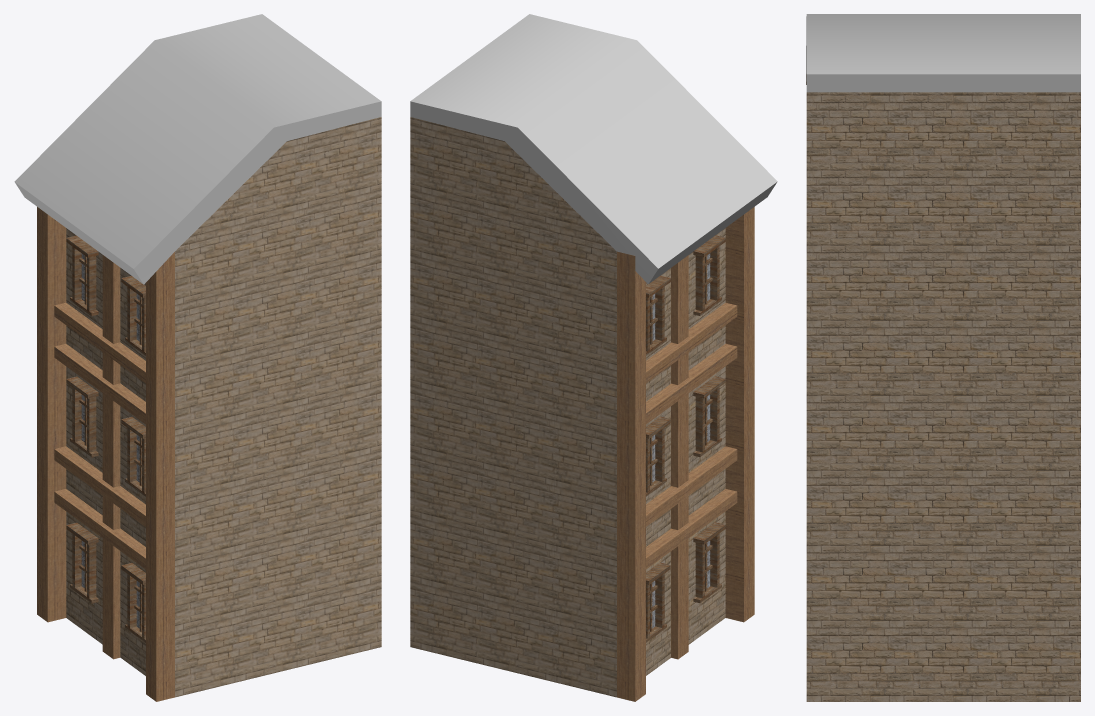
The model's file is townhouse1_combined.fbx.
3 views of the same model, side by side, from view 1: azimuth 30°, elevation 25°; view 2: azimuth 150°, elevation 25°; view 3: azimuth 270°, elevation 25° (orthographic). The views are drawn at different scales.
Parts seen in each view (by area): view 1: pCube30; view 2: pCube30; view 3: pCube30.
Part boxes in pixels (<box>): pCube30: <box>14,14,381,701</box>; pCube30: <box>410,14,777,701</box>; pCube30: <box>806,14,1080,701</box>.
Size of the model in its own units: 36 by 75.7 by 30.05.
